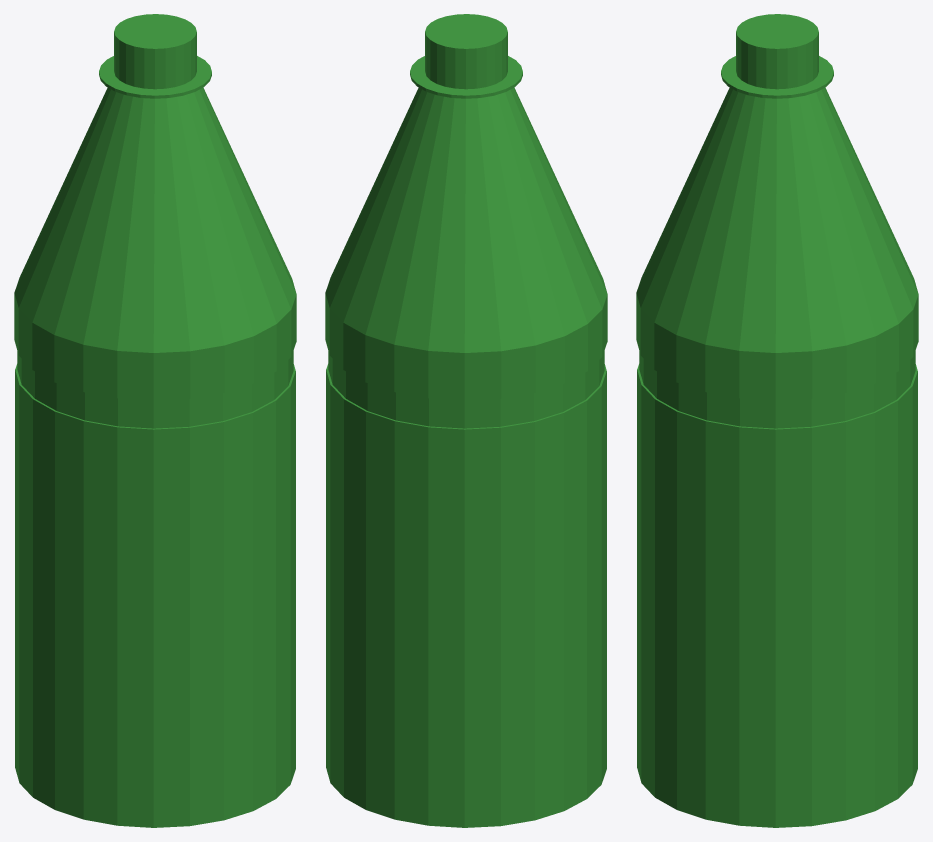
3 views of the same model, side by side, from view 1: azimuth 30°, elevation 25°; view 2: azimuth 150°, elevation 25°; view 3: azimuth 270°, elevation 25° (orthographic).
Parts seen in each view (by area): view 1: mesh2_mesh2-geometry, mesh1_mesh1-geometry; view 2: mesh2_mesh2-geometry, mesh1_mesh1-geometry; view 3: mesh2_mesh2-geometry, mesh1_mesh1-geometry.
Boxes of the visible parts, x1,y1,x2,y2 form: mesh2_mesh2-geometry: (14,87,296,827); mesh1_mesh1-geometry: (99,14,211,98); mesh2_mesh2-geometry: (325,87,607,827); mesh1_mesh1-geometry: (410,14,522,98); mesh2_mesh2-geometry: (636,87,918,827); mesh1_mesh1-geometry: (721,14,833,98).
Bounding box in the file's own units: 0.3115 × 0.8977 × 0.3115.
